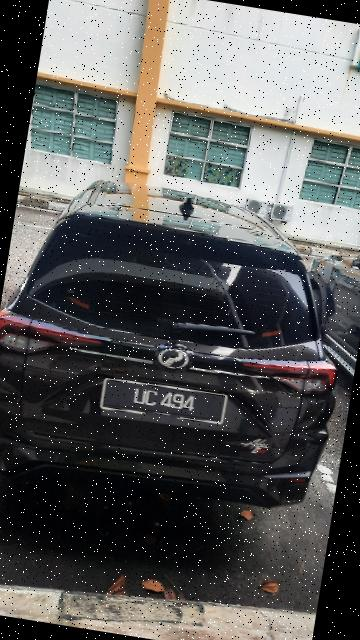License_Plate: (96, 374, 229, 430)
car: (1, 159, 360, 531)
